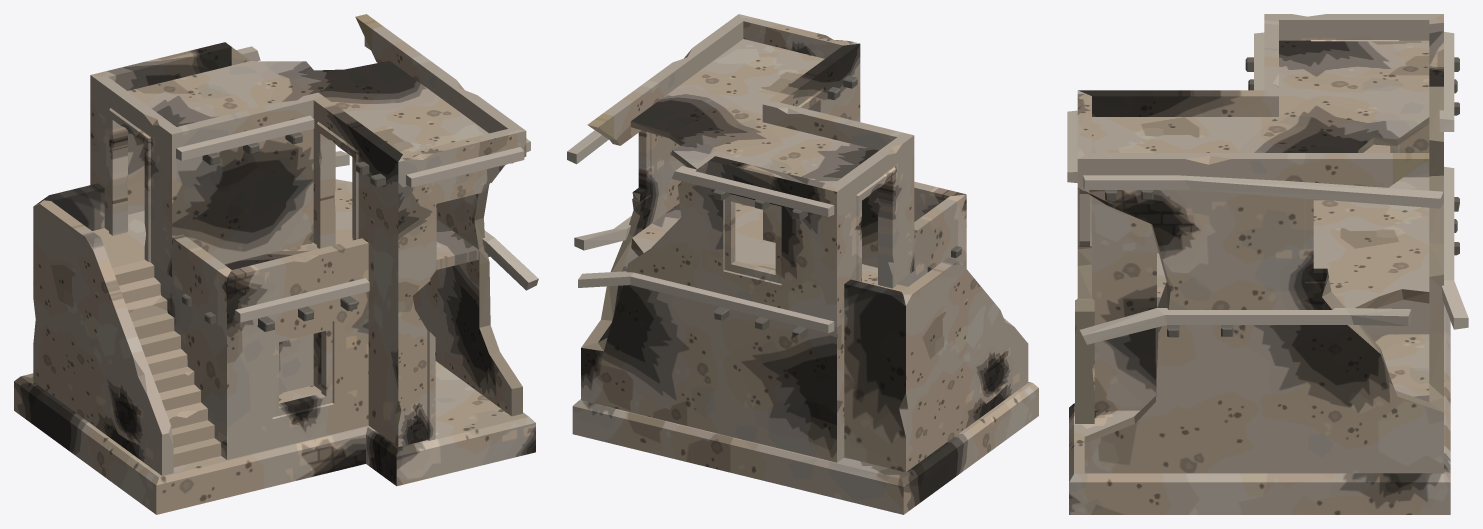
Rendered from SM_Bld_Village_House_02_Destroyed.glb.
The picture shows the model from 3 angles, left to right: view 1: azimuth 30°, elevation 25°; view 2: azimuth 150°, elevation 25°; view 3: azimuth 270°, elevation 25°; orthographic projection. The views are drawn at different scales.
Visible parts, largest first — view 1: SM_Bld_Village_House_02_Destroyed; view 2: SM_Bld_Village_House_02_Destroyed; view 3: SM_Bld_Village_House_02_Destroyed.
Part boxes in pixels (x1,y1,x2,y2): SM_Bld_Village_House_02_Destroyed: (14,14,538,514); SM_Bld_Village_House_02_Destroyed: (567,14,1038,514); SM_Bld_Village_House_02_Destroyed: (1067,14,1468,514).
Size of the model in its own units: 8.06 by 6.74 by 6.94.
1 material, 1 textured.
